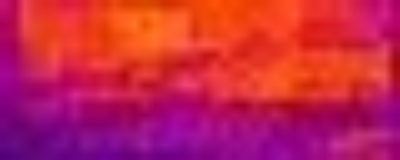Shadow: (1, 56, 352, 160)
